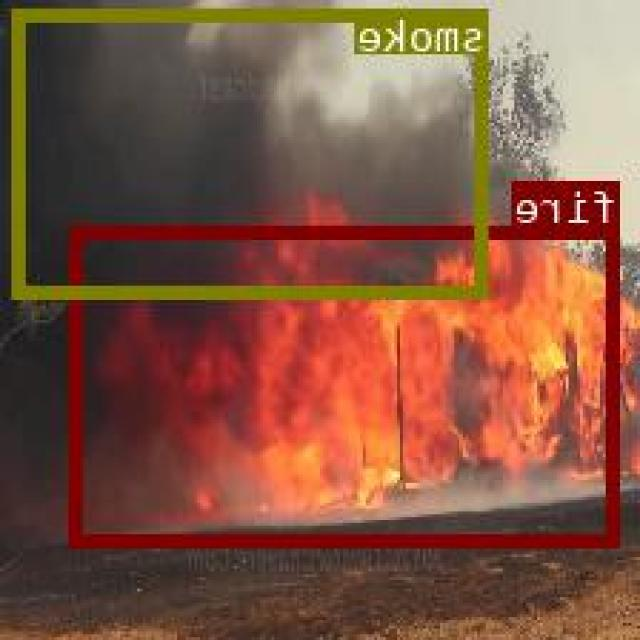fire: (74, 224, 622, 543)
smoke: (16, 6, 489, 295)
